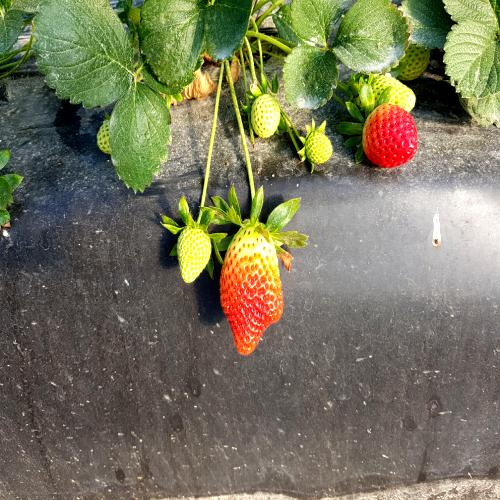ripe: (222, 220, 292, 356), (354, 88, 422, 174)
unripe: (375, 67, 436, 113), (181, 216, 213, 288), (248, 89, 277, 146), (302, 134, 333, 174)
